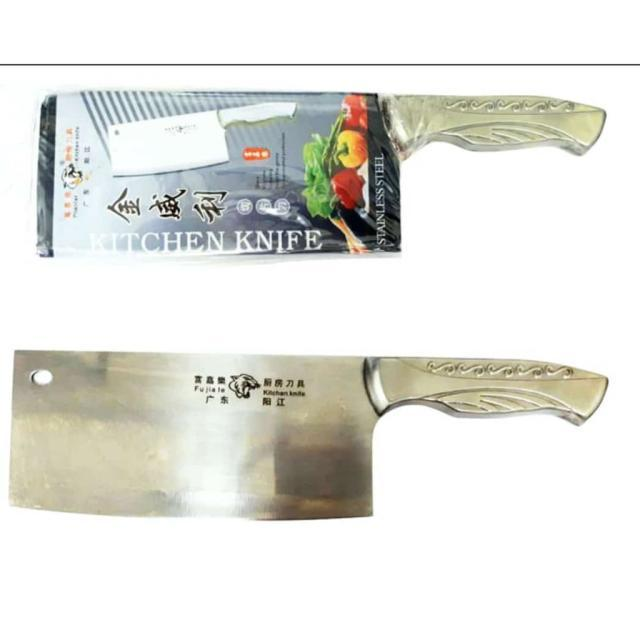Pisau: (0, 342, 621, 526)
